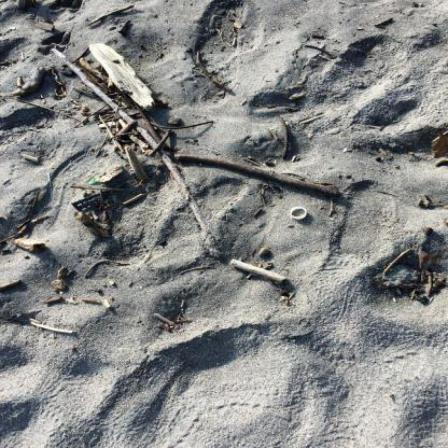Bottle cap: (291, 208, 308, 221)
Other plastic: (73, 193, 102, 214), (89, 175, 101, 186), (49, 174, 53, 200)
